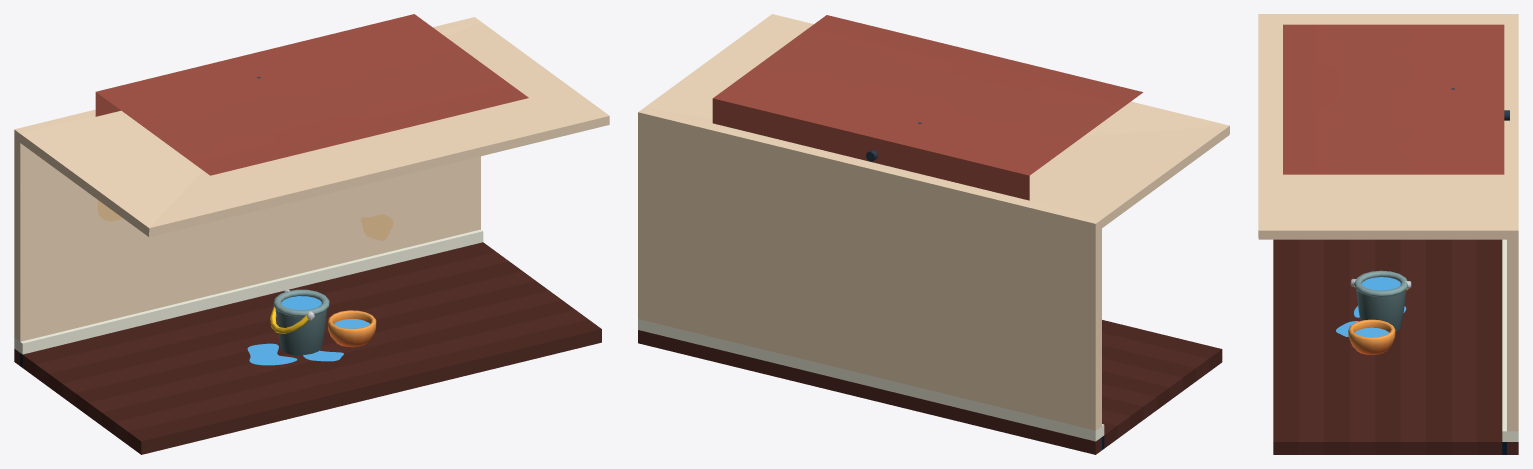
Rendered from LeakingCeiling.fbx.
3 views of the same model, side by side, from view 1: azimuth 30°, elevation 25°; view 2: azimuth 150°, elevation 25°; view 3: azimuth 270°, elevation 25° (orthographic). The views are drawn at different scales.
Visible parts, largest first — view 1: Walls, CeilingBG, Ceiling, Bucket, Bowl, Splash; view 2: Walls, CeilingBG, Ceiling; view 3: Walls, CeilingBG, Ceiling, Bucket, Bowl.
Boxes of the visible parts, x1,y1,x2,y2 form: Walls: (14, 17, 601, 454); CeilingBG: (95, 14, 528, 175); Ceiling: (20, 21, 609, 237); Bucket: (270, 289, 329, 355); Bowl: (328, 310, 376, 347); Splash: (247, 343, 343, 365); Walls: (638, 108, 1222, 454); CeilingBG: (712, 15, 1143, 200); Ceiling: (644, 14, 1229, 227); Walls: (1273, 14, 1518, 454); CeilingBG: (1283, 24, 1504, 174); Ceiling: (1258, 14, 1506, 239); Bucket: (1350, 270, 1411, 332); Bowl: (1348, 319, 1395, 355).
Bounding box in the file's own units: 718 × 384 × 365.
